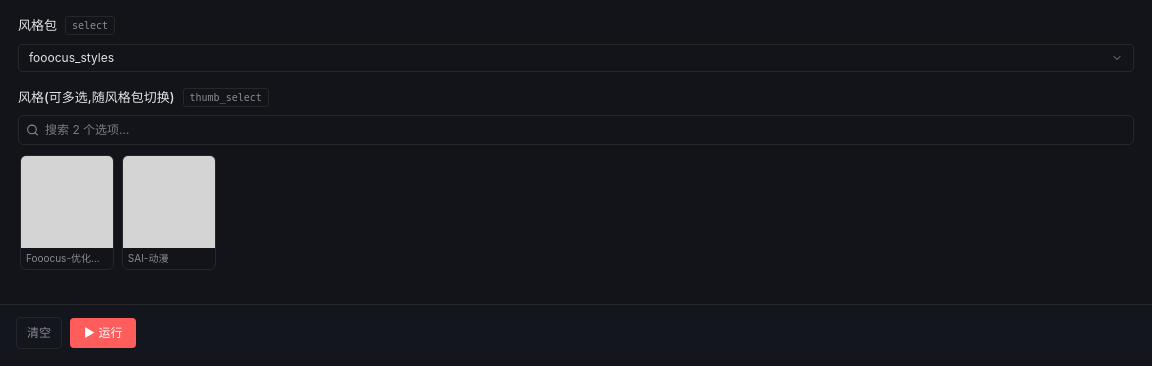
Test case: SchemaDrivenForm — 选项依赖 › 按默认包拉清单,切包后换成新包的选项
Expected: the text "SAI-动漫" is shown, [128,252,168,264]
Click the button "fooocus_styles" at (71, 57), box [18,44,1134,72]
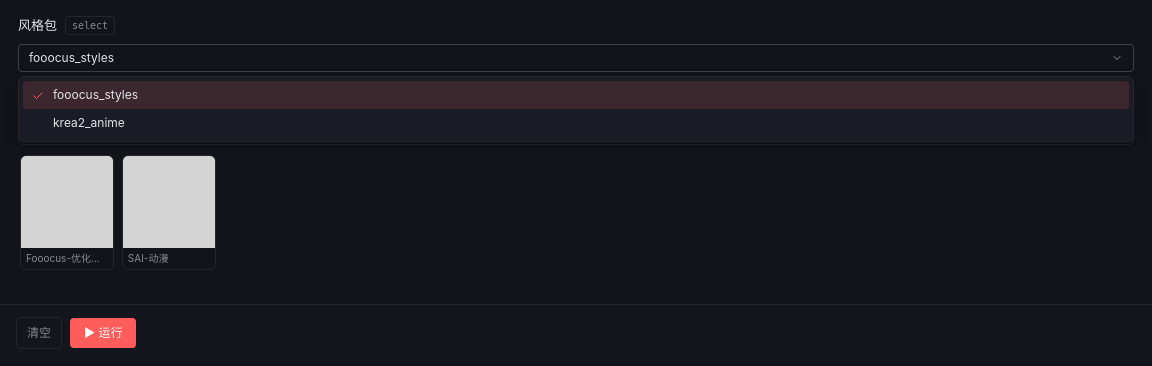
Click the option "krea2_anime" at (89, 122), box [23,108,1129,136]
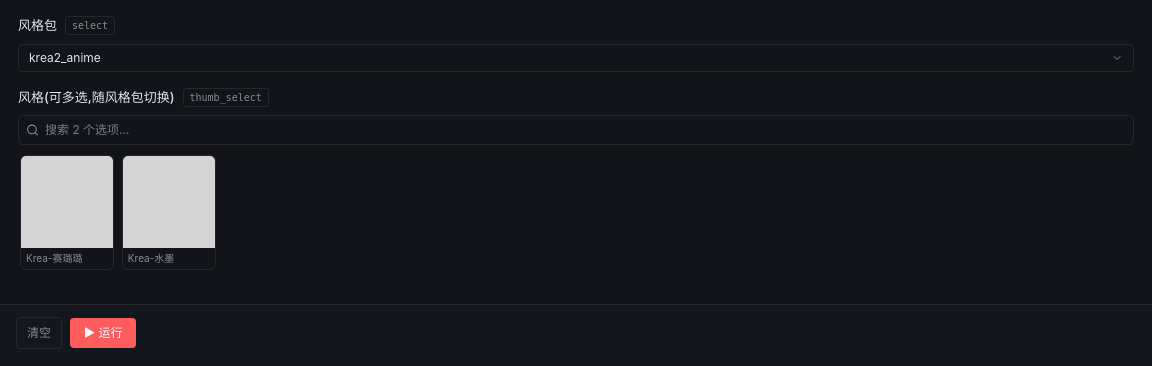
Expected: the text "Krea-赛璐璐" is shown, [26,252,82,264]
Expected: the button "SAI-动漫" is gone
